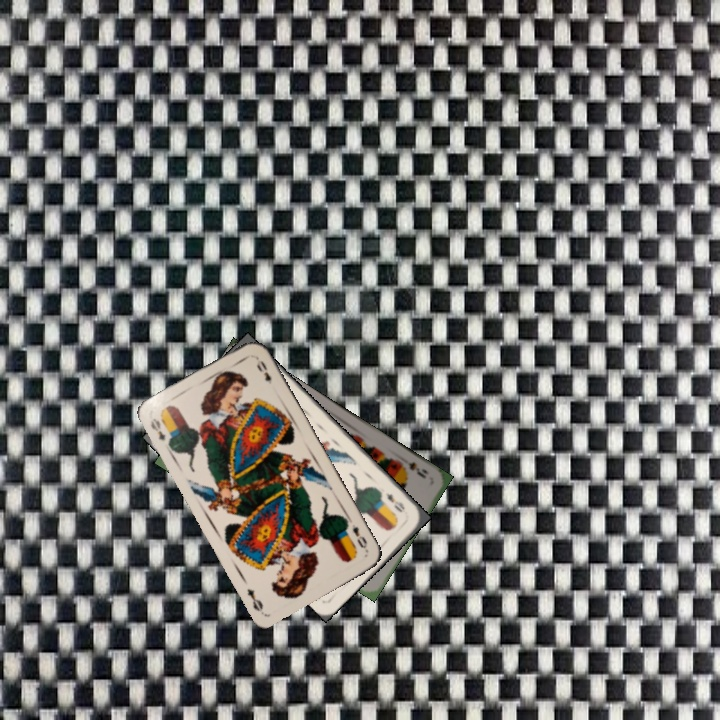EO: (381, 488, 407, 515), (348, 520, 370, 551), (146, 414, 168, 443)
S9: (396, 457, 430, 481)
